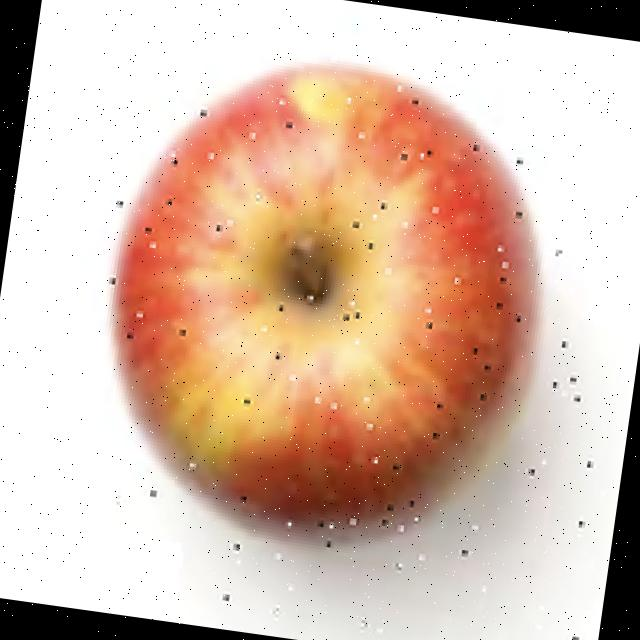apple: (101, 50, 593, 639)
